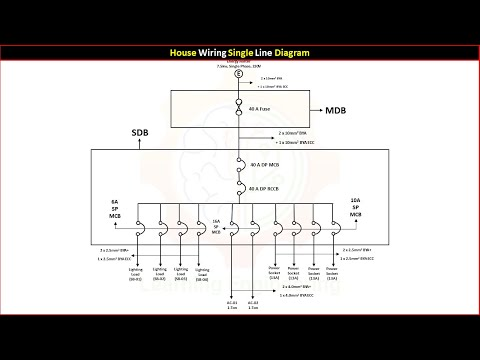circuit_breaker: (224, 215, 241, 242), (247, 217, 265, 241), (172, 213, 189, 238), (154, 215, 170, 241), (191, 216, 209, 239), (309, 218, 326, 240), (289, 217, 305, 240), (328, 218, 345, 239), (131, 216, 147, 238), (271, 218, 286, 240), (233, 177, 249, 197), (232, 155, 248, 174)
